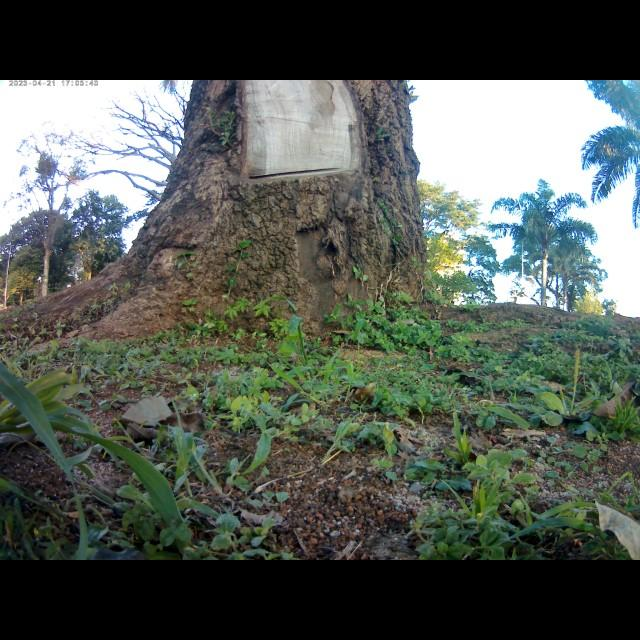arvore: (3, 84, 431, 351)
